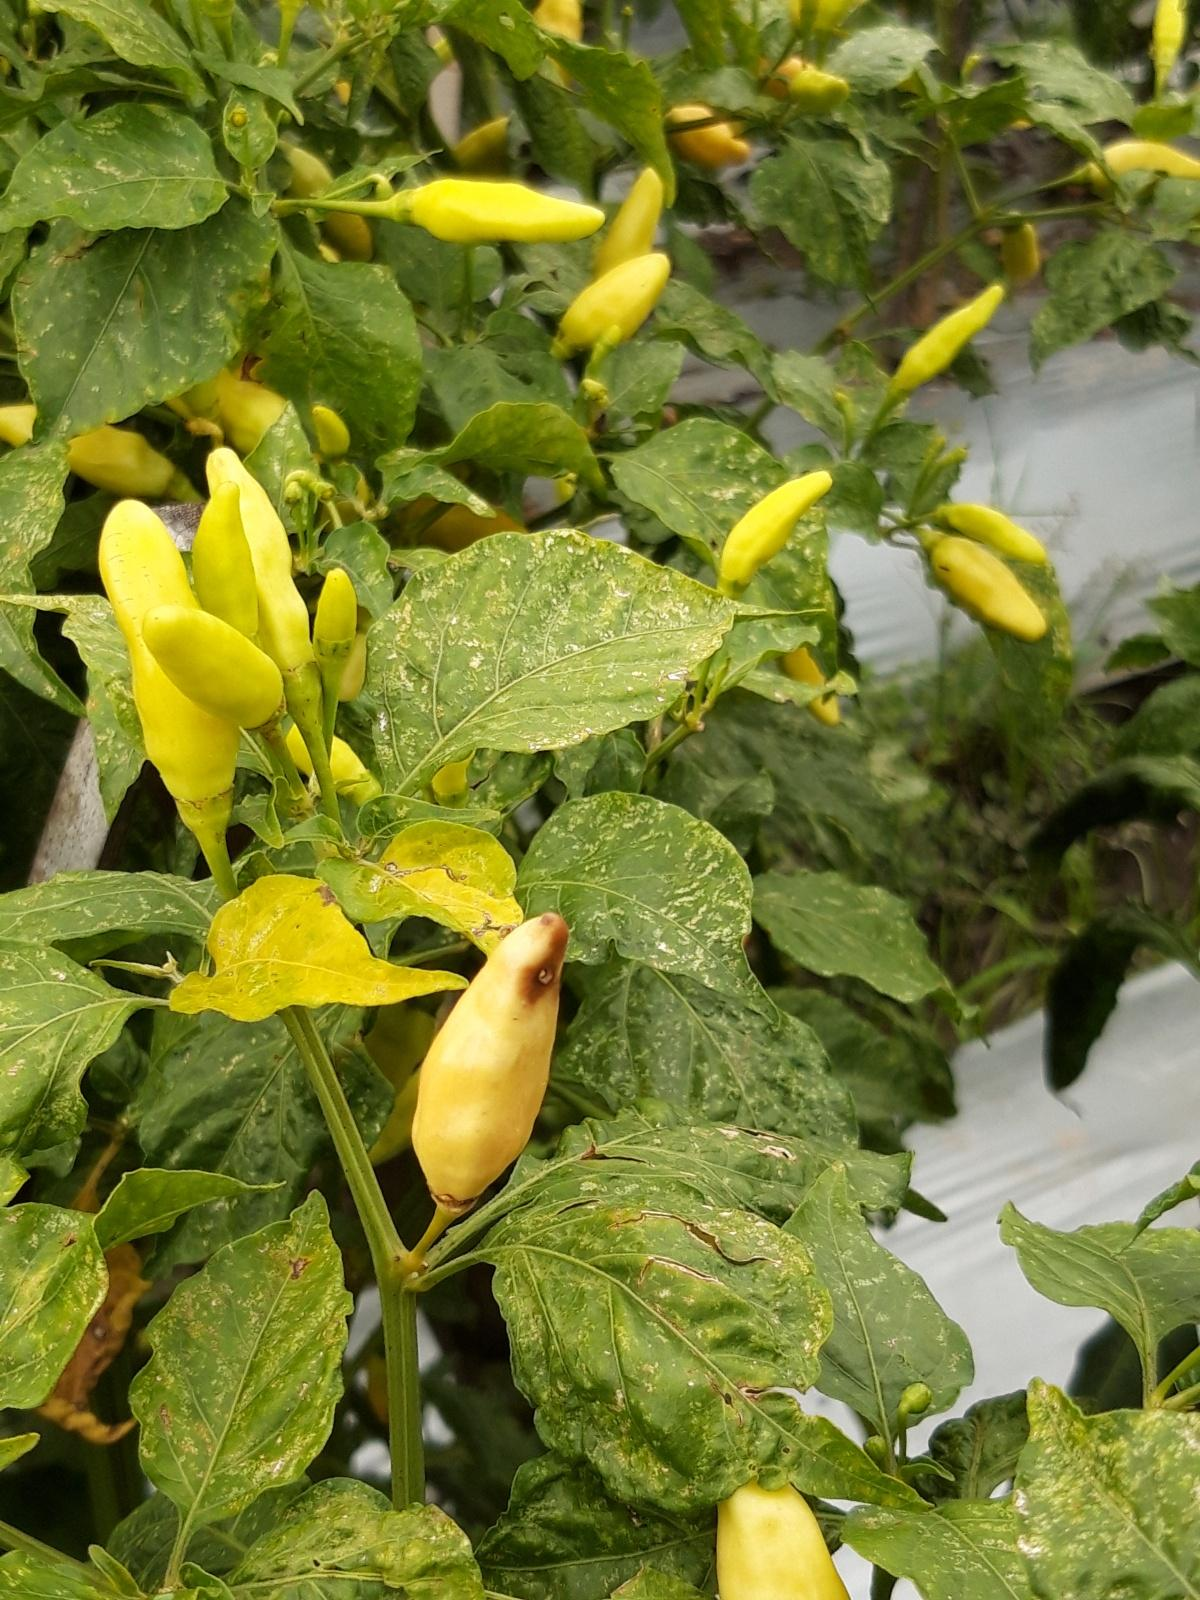cabai_normal: (97, 498, 245, 831), (205, 443, 319, 690), (141, 605, 290, 732), (0, 398, 175, 499), (711, 469, 833, 593), (386, 179, 605, 246), (887, 282, 1007, 402), (925, 532, 1047, 644), (555, 252, 671, 350), (192, 483, 260, 641), (937, 503, 1047, 571), (658, 105, 749, 171), (787, 68, 852, 118), (309, 407, 354, 459)
lalat_buah: (405, 913, 570, 1217)
